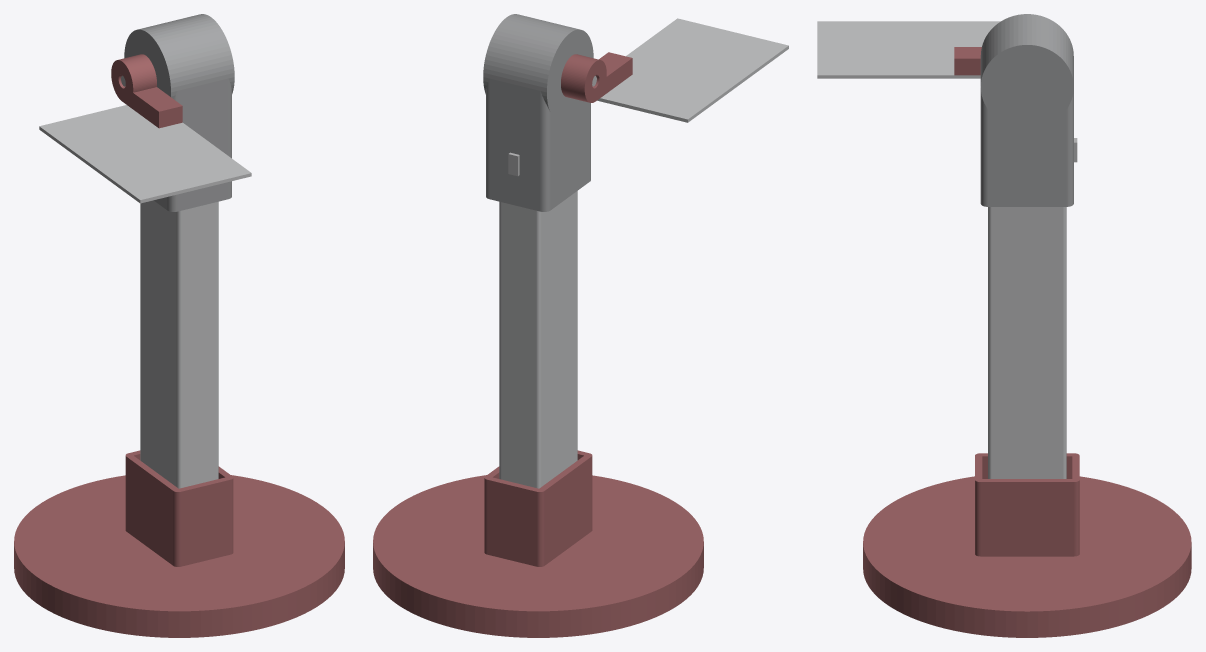
Rendered from demo.glb.
3 views of the same model, side by side, from view 1: azimuth 30°, elevation 25°; view 2: azimuth 150°, elevation 25°; view 3: azimuth 270°, elevation 25° (orthographic).
Visible parts, largest first — view 1: print_fot_fot, sett_arm_profil, kjopt_kjoleplate_kjoleplate, sett_arm_kappe, print_nav_nav; view 2: print_fot_fot, sett_arm_profil, sett_arm_kappe, kjopt_kjoleplate_kjoleplate, print_nav_nav; view 3: print_fot_fot, sett_arm_profil, sett_arm_kappe, kjopt_kjoleplate_kjoleplate, print_nav_nav.
Part boxes in pixels (x1,y1,x2,y2): print_fot_fot: (14, 450, 344, 637); sett_arm_profil: (140, 200, 218, 488); kjopt_kjoleplate_kjoleplate: (39, 105, 251, 203); sett_arm_kappe: (124, 14, 234, 211); print_nav_nav: (111, 54, 182, 128); print_fot_fot: (373, 450, 703, 637); sett_arm_profil: (499, 191, 577, 488); sett_arm_kappe: (483, 14, 593, 211); kjopt_kjoleplate_kjoleplate: (597, 18, 788, 122); print_nav_nav: (561, 52, 632, 102); print_fot_fot: (863, 453, 1191, 637); sett_arm_profil: (988, 207, 1066, 478); sett_arm_kappe: (980, 14, 1073, 206); kjopt_kjoleplate_kjoleplate: (817, 21, 1000, 78); print_nav_nav: (954, 47, 981, 75).
Size of the model in its own units: 0.181 by 0.326 by 0.205.
